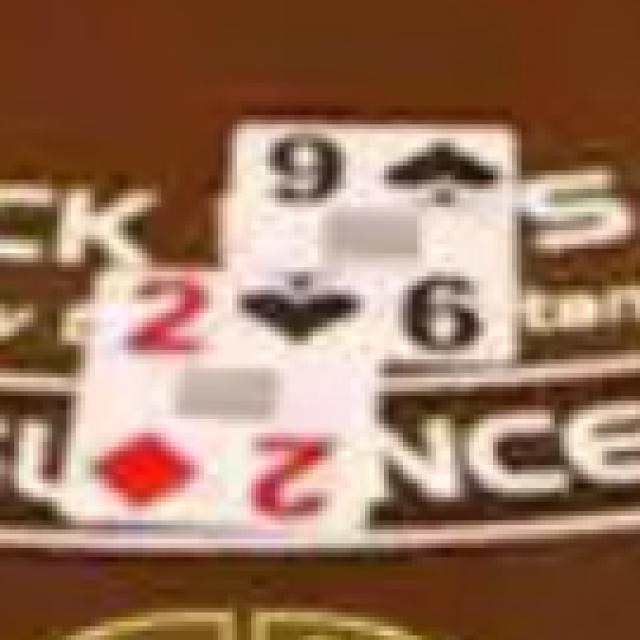Card-2: (66, 271, 375, 534)
Card-9: (230, 119, 512, 363)
